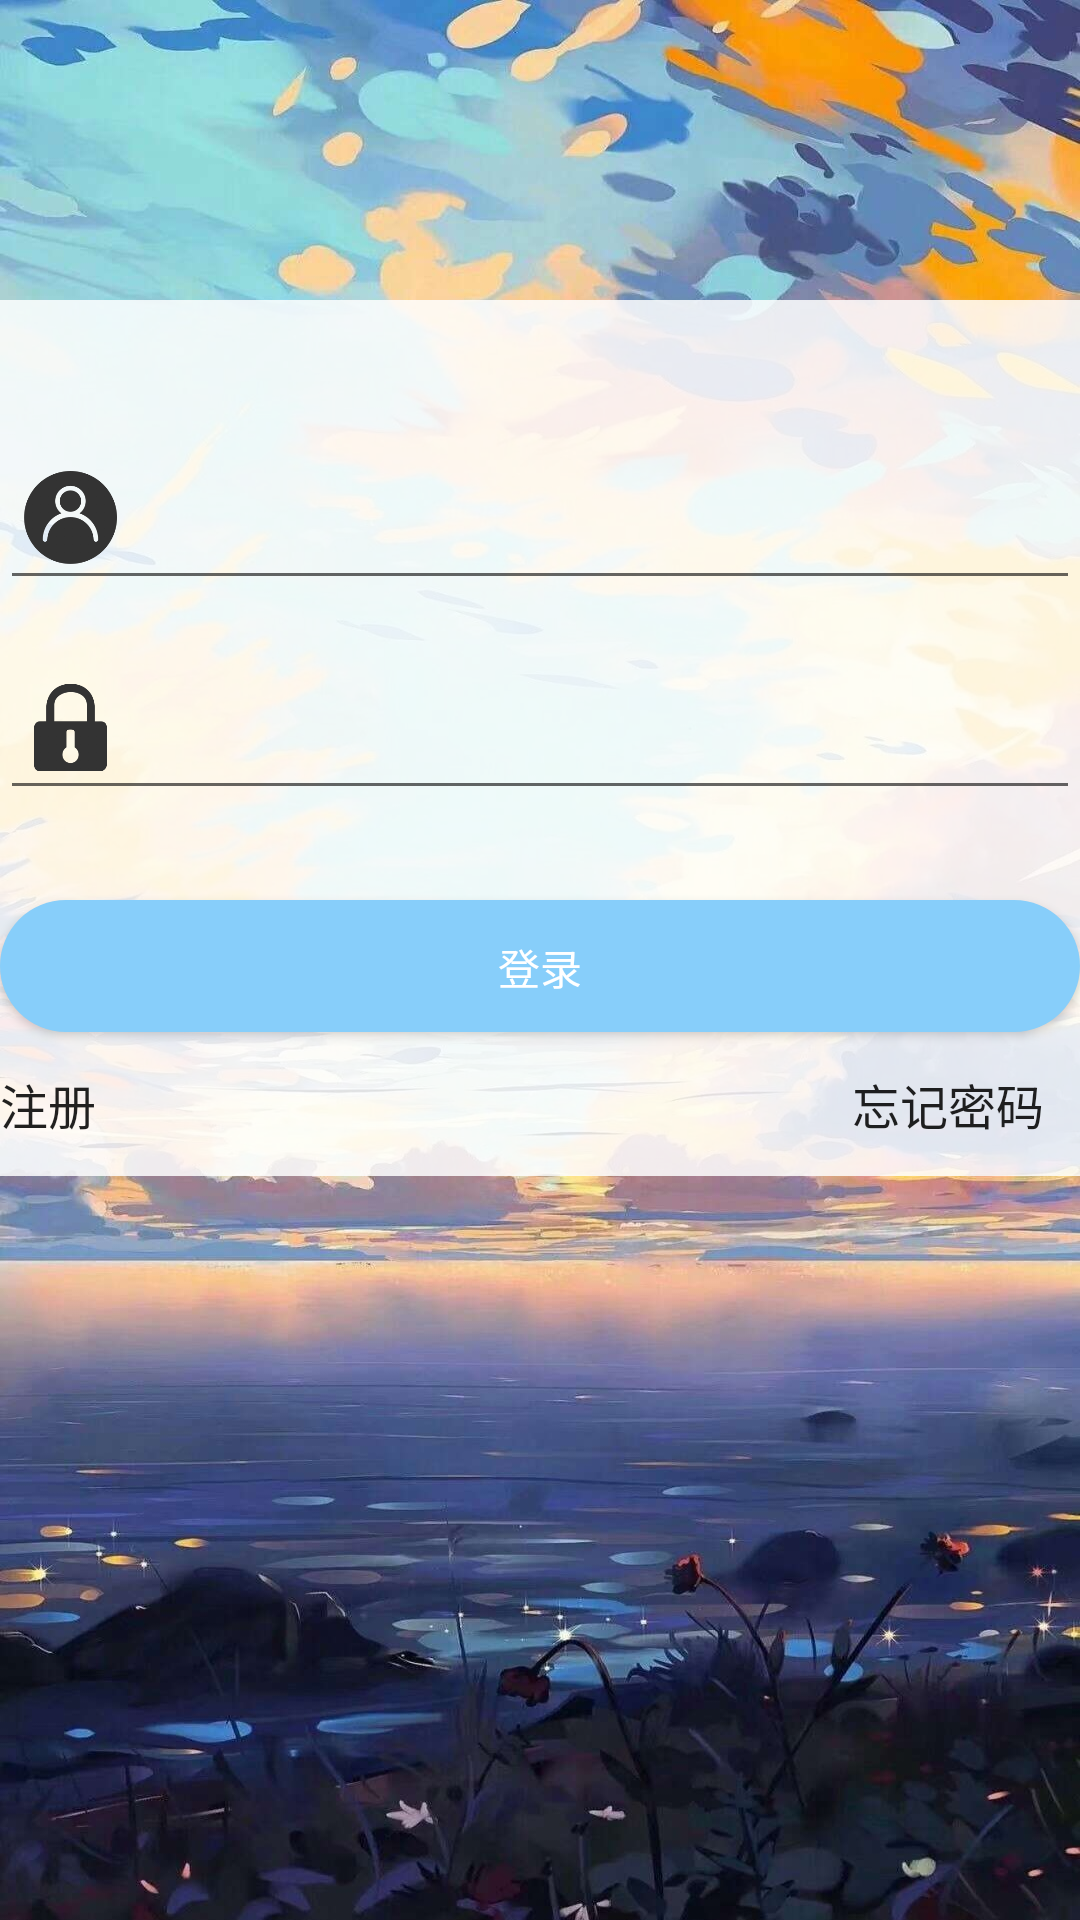

Icons on this 1080 x 1920 Android screen, each with its box as (left=x1, top=y1, right=x2, bottom=y2):
password: (left=34, top=684, right=107, bottom=771)
user: (left=24, top=471, right=117, bottom=564)
